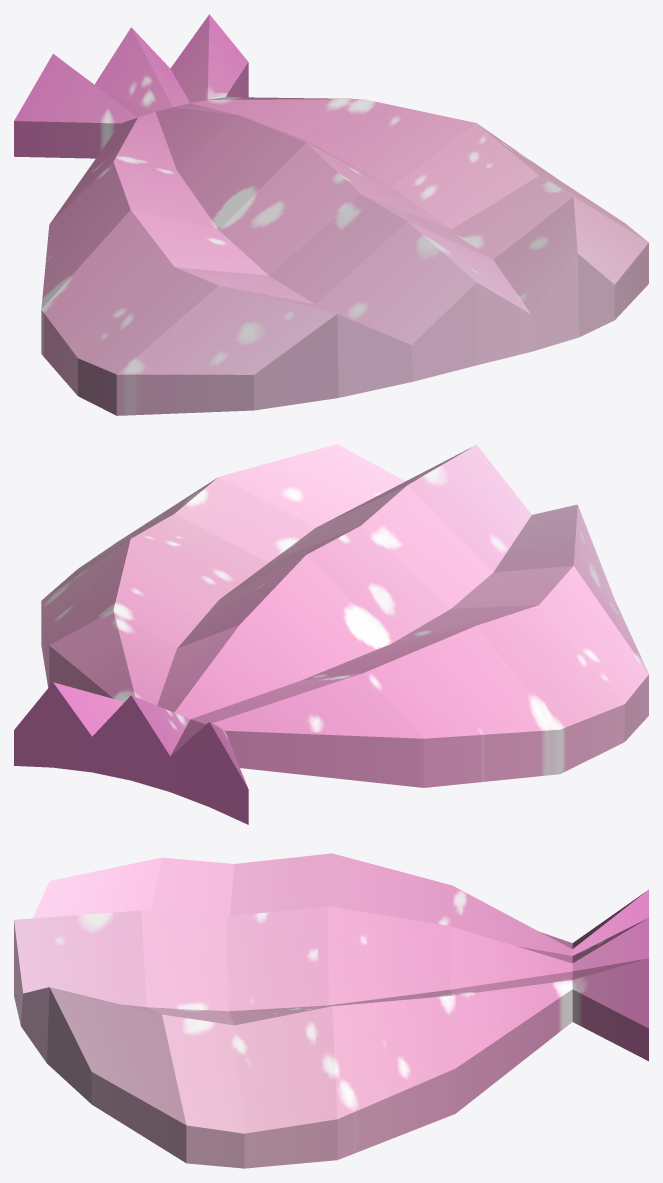
The model's file is SeaShell_1.fbx.
3 views of the same model, one above another, from view 1: azimuth 30°, elevation 25°; view 2: azimuth 150°, elevation 25°; view 3: azimuth 270°, elevation 25° (orthographic). The views are drawn at different scales.
Parts seen in each view (by area): view 1: SeaShell_1; view 2: SeaShell_1; view 3: SeaShell_1.
Boxes of the visible parts, bbox=[...] form: SeaShell_1: bbox=[14, 14, 648, 415]; SeaShell_1: bbox=[14, 444, 648, 824]; SeaShell_1: bbox=[14, 853, 648, 1168].
Bounding box in the file's own units: 205 × 55.08 × 225.
